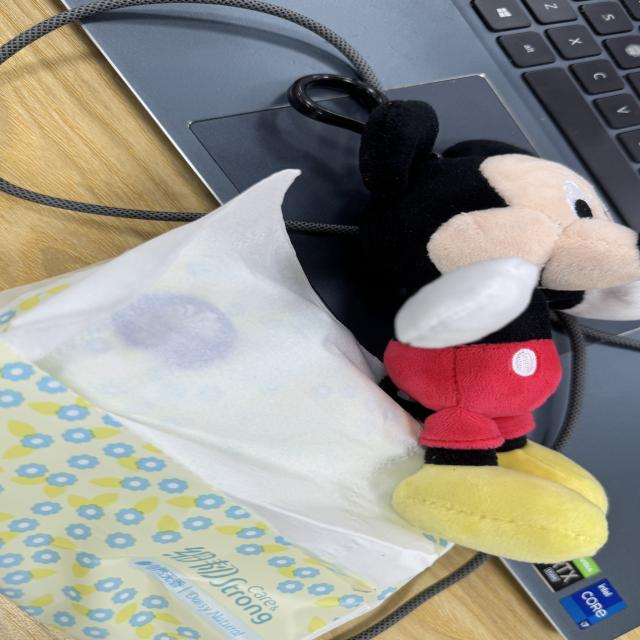mickey: (361, 101, 639, 562)
tissue: (0, 169, 444, 640)
